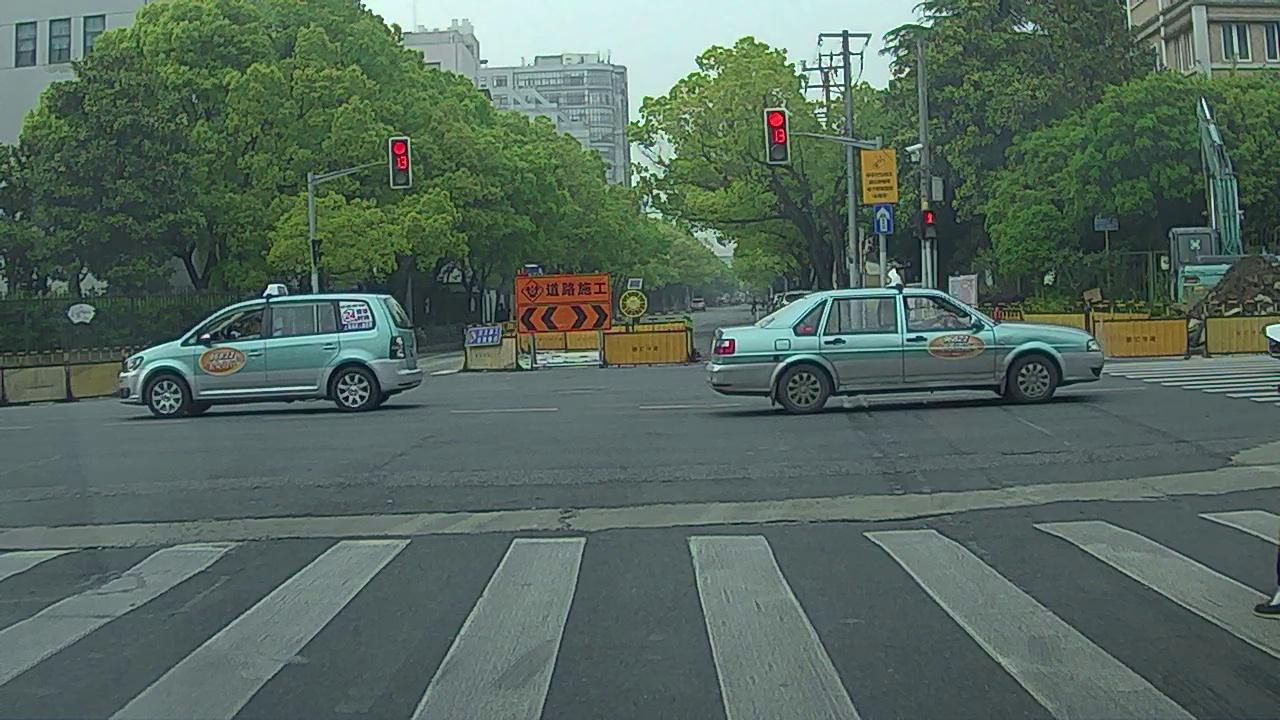traffic_light: (387, 139, 411, 189), (768, 109, 789, 162)
